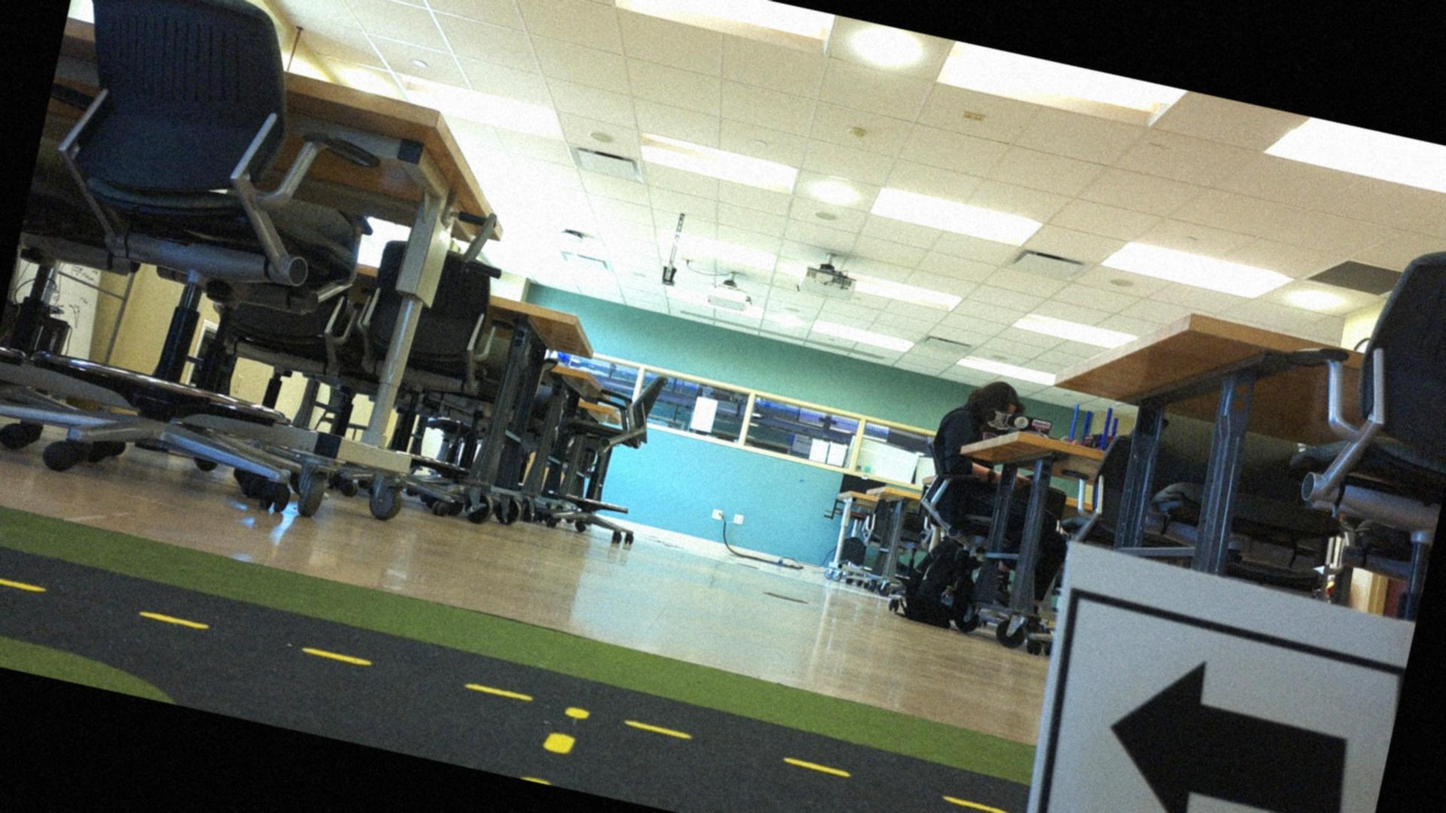turnright: (1023, 604, 1402, 812)
yellowline: (0, 559, 1016, 812), (538, 701, 590, 763)
